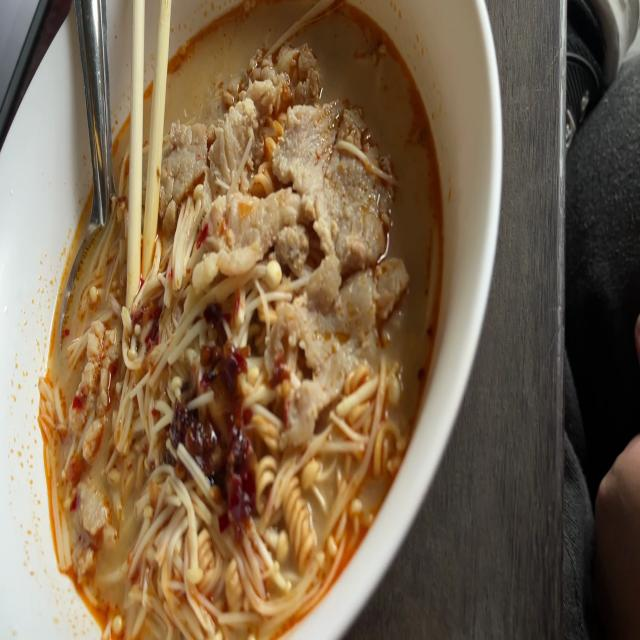noodle: (27, 0, 455, 640)
